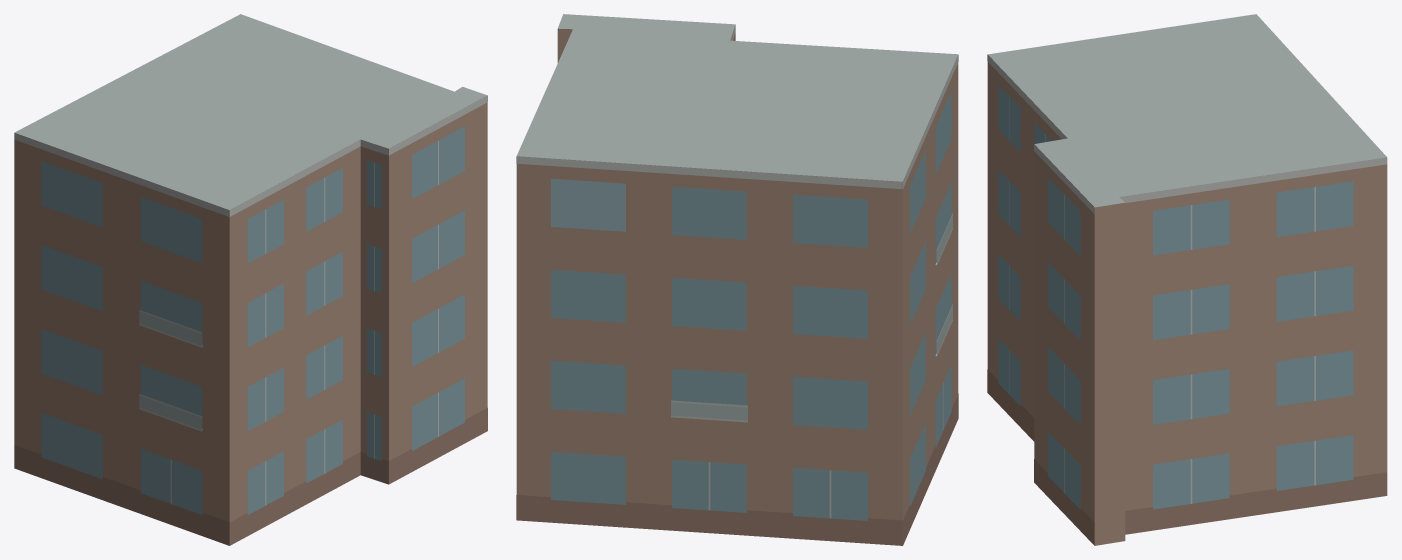
File: survey-upis-32851624.glb
3 renders of one model, left to right at view 1: azimuth 30°, elevation 25°; view 2: azimuth 150°, elevation 25°; view 3: azimuth 270°, elevation 25°, orthographic. The views are drawn at different scales.
Visible parts, largest first — view 1: survey-upis-32851624.tmp; view 2: survey-upis-32851624.tmp; view 3: survey-upis-32851624.tmp.
Part boxes in pixels (bbox=[...]): survey-upis-32851624.tmp: bbox=[14, 14, 487, 545]; survey-upis-32851624.tmp: bbox=[516, 14, 958, 545]; survey-upis-32851624.tmp: bbox=[987, 14, 1387, 545].
Bounding box in the file's own units: 14.55 × 11.86 × 12.7.
